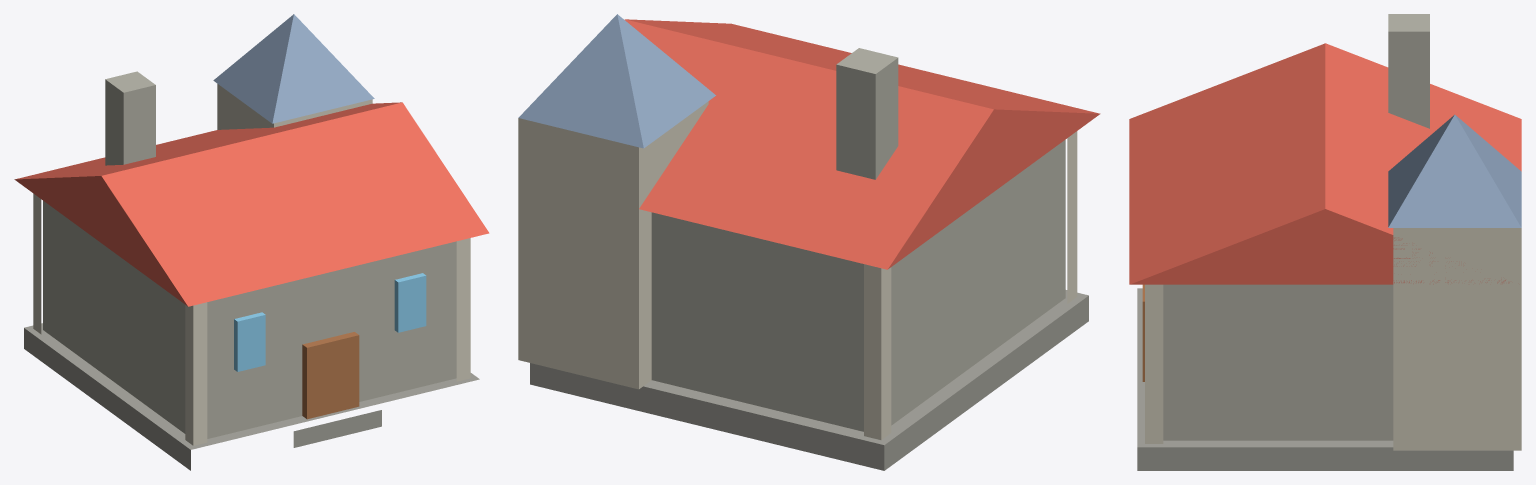
File: house_t3_v1.glb
The picture shows the model from 3 angles, left to right: view 1: azimuth 30°, elevation 25°; view 2: azimuth 150°, elevation 25°; view 3: azimuth 270°, elevation 25°; orthographic projection. The views are drawn at different scales.
Visible parts, largest first — view 1: house_t3_v1; view 2: house_t3_v1; view 3: house_t3_v1.
Boxes of the visible parts, x1=… form: house_t3_v1: x1=14, y1=14, x2=489, y2=470; house_t3_v1: x1=518, y1=14, x2=1100, y2=470; house_t3_v1: x1=1129, y1=14, x2=1521, y2=470.
Bounding box in the file's own units: 0.75 × 0.7 × 0.75.
1 material, 1 textured.
